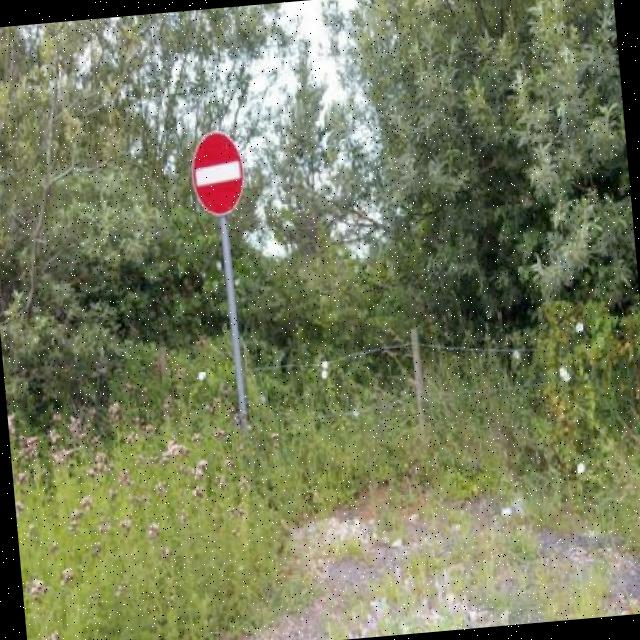Zakaz wjazdu: (190, 127, 250, 224)
